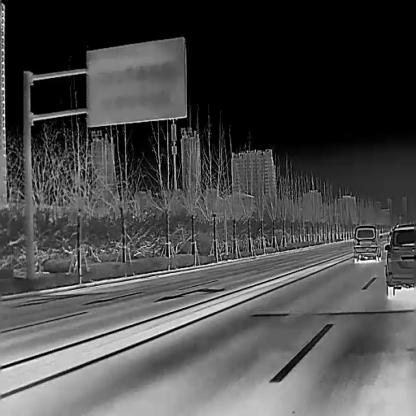car: (383, 222, 415, 296), (352, 224, 382, 262)
